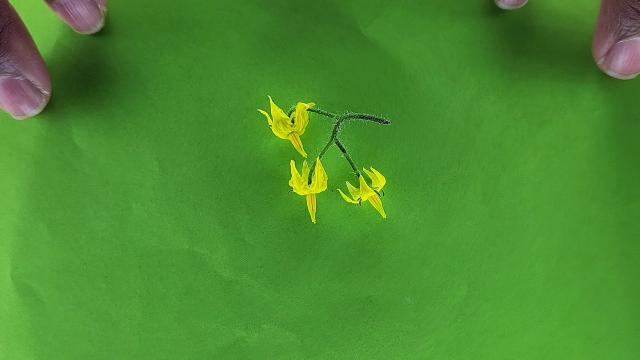Anthesis: (257, 93, 314, 160), (288, 154, 330, 221), (337, 167, 389, 218)
